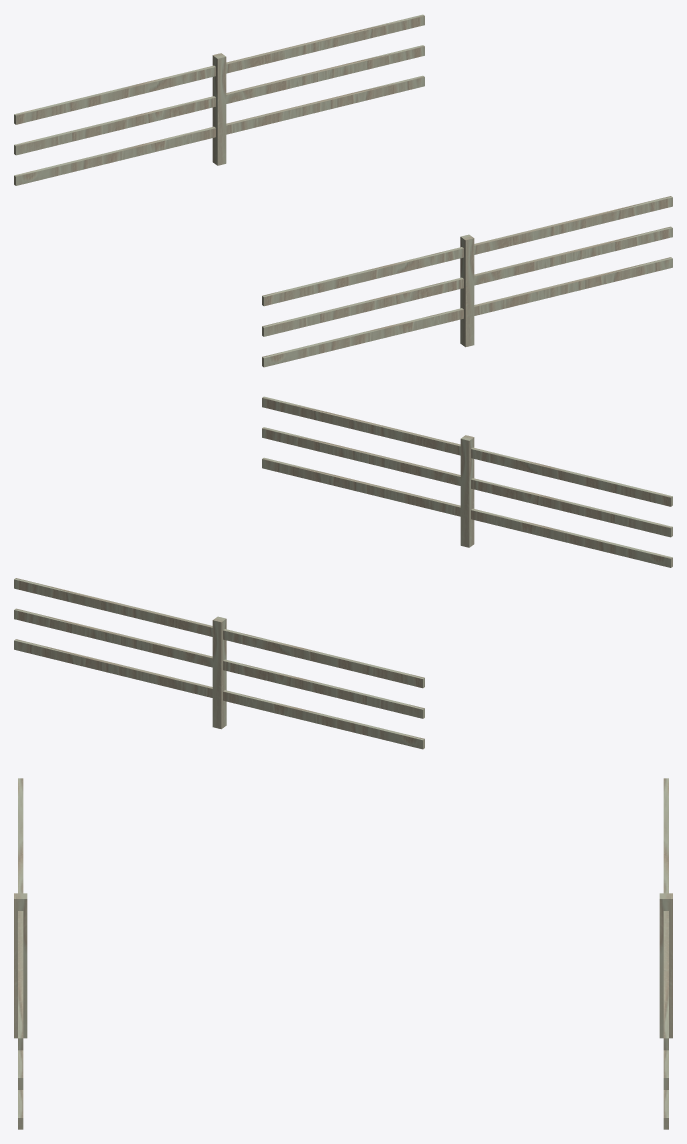
3 views of the same model, one above another, from view 1: azimuth 30°, elevation 25°; view 2: azimuth 150°, elevation 25°; view 3: azimuth 270°, elevation 25° (orthographic). The views are drawn at different scales.
Visible parts, largest first — view 1: brid_rln021_woodsemwhite_0; view 2: brid_rln021_woodsemwhite_0; view 3: brid_rln021_woodsemwhite_0.
Part boxes in pixels (x1,y1,x2,y2): brid_rln021_woodsemwhite_0: (14, 14, 672, 367); brid_rln021_woodsemwhite_0: (14, 396, 672, 749); brid_rln021_woodsemwhite_0: (14, 778, 672, 1129).
Size of the model in its own units: 2.8 by 0.7 by 3.
1 material, 1 textured.
